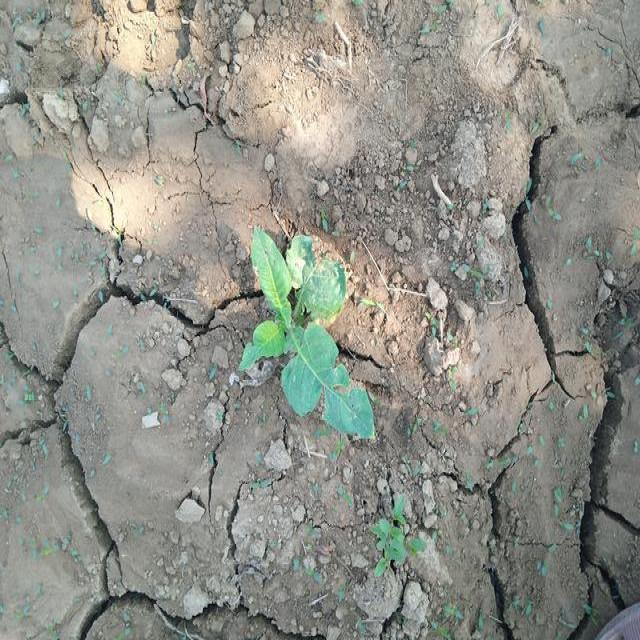crop: (242, 235, 376, 444)
